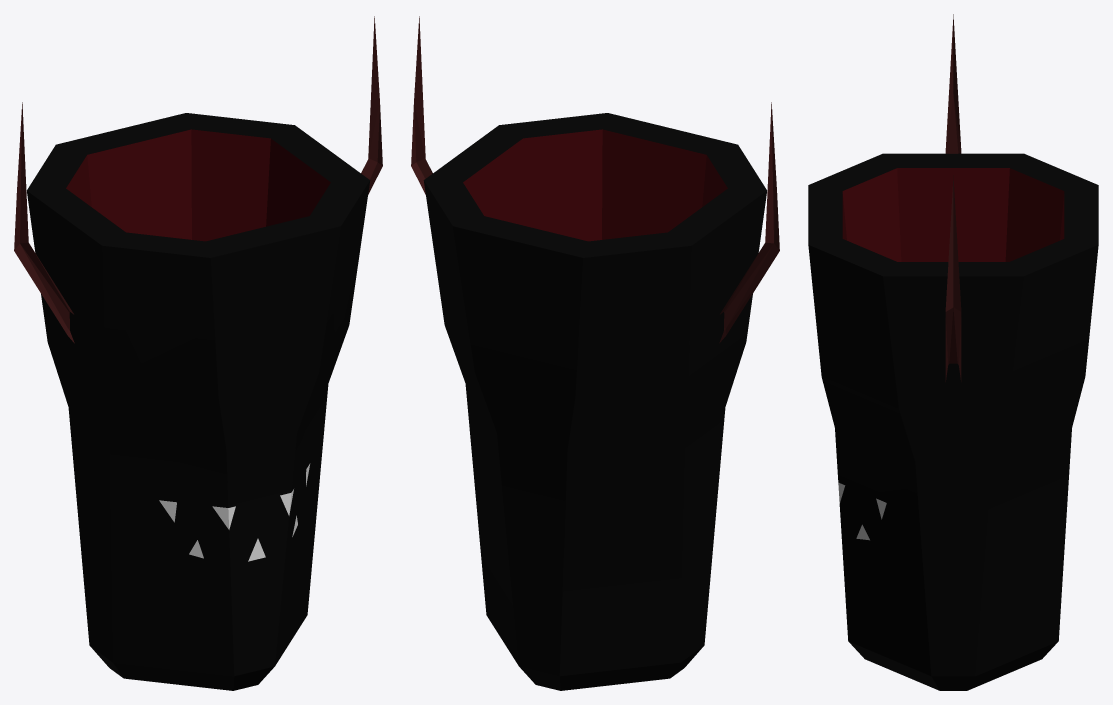
The model's file is CubileteDemonioEnemigo.fbx.
3 views of the same model, side by side, from view 1: azimuth 30°, elevation 25°; view 2: azimuth 150°, elevation 25°; view 3: azimuth 270°, elevation 25° (orthographic). The views are drawn at different scales.
Visible parts, largest first — view 1: cubileteDEnemigo; view 2: cubileteDEnemigo; view 3: cubileteDEnemigo.
Part boxes in pixels (<box>): cubileteDEnemigo: <box>14,16,382,690</box>; cubileteDEnemigo: <box>411,16,779,690</box>; cubileteDEnemigo: <box>808,14,1098,690</box>.
Size of the model in its own units: 56.93 by 89.22 by 42.
